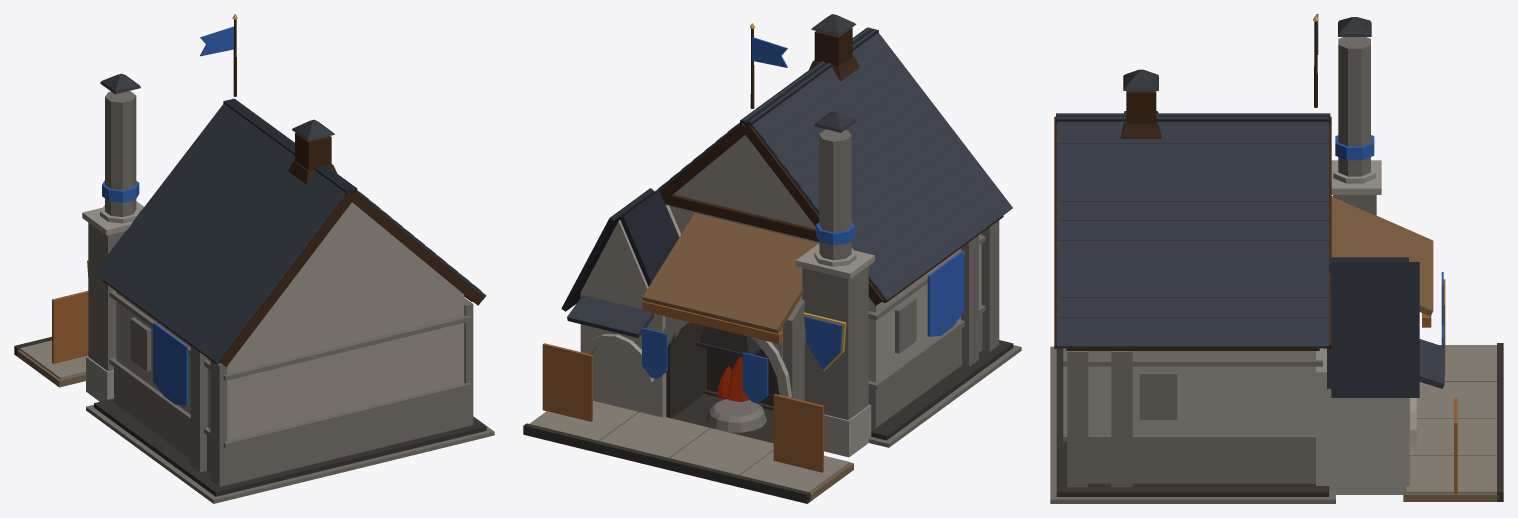
Rendered from 铁匠铺_手游_远.glb.
The picture shows the model from 3 angles, left to right: view 1: azimuth 30°, elevation 25°; view 2: azimuth 150°, elevation 25°; view 3: azimuth 270°, elevation 25°; orthographic projection. The views are drawn at different scales.
Visible parts, largest first — view 1: BS-主体, BS-team; view 2: BS-主体, BS-team, BS-自发光; view 3: BS-主体, BS-team.
Part boxes in pixels (bbox=[...]): BS-主体: bbox=[14, 14, 494, 503]; BS-team: bbox=[102, 26, 233, 405]; BS-主体: bbox=[523, 14, 1021, 503]; BS-team: bbox=[642, 37, 964, 403]; BS-自发光: bbox=[717, 356, 749, 401]; BS-主体: bbox=[1050, 15, 1503, 503]; BS-team: bbox=[1316, 14, 1443, 346].
Bounding box in the file's own units: 9.44 × 11.83 × 11.81.
Materials: 3 (2 with a texture image).
